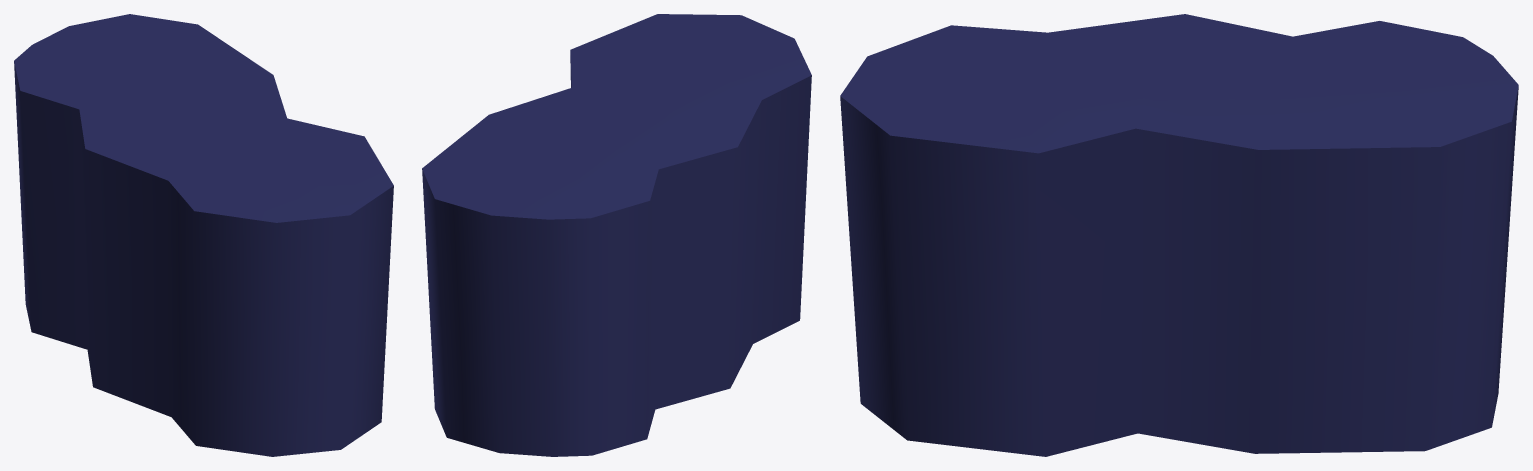
File: Platform3LOD1.fbx
3 renders of one model, left to right at view 1: azimuth 30°, elevation 25°; view 2: azimuth 150°, elevation 25°; view 3: azimuth 270°, elevation 25°, orthographic. The views are drawn at different scales.
Visible parts, largest first — view 1: platform3; view 2: platform3; view 3: platform3.
Boxes of the visible parts, x1,y1,x2,y2 form: platform3: [14, 14, 393, 456]; platform3: [422, 14, 811, 456]; platform3: [840, 14, 1518, 456].
Size of the model in its own units: 376 by 397 by 773.
